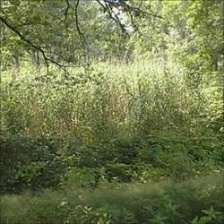neutral: (1, 1, 224, 216)
